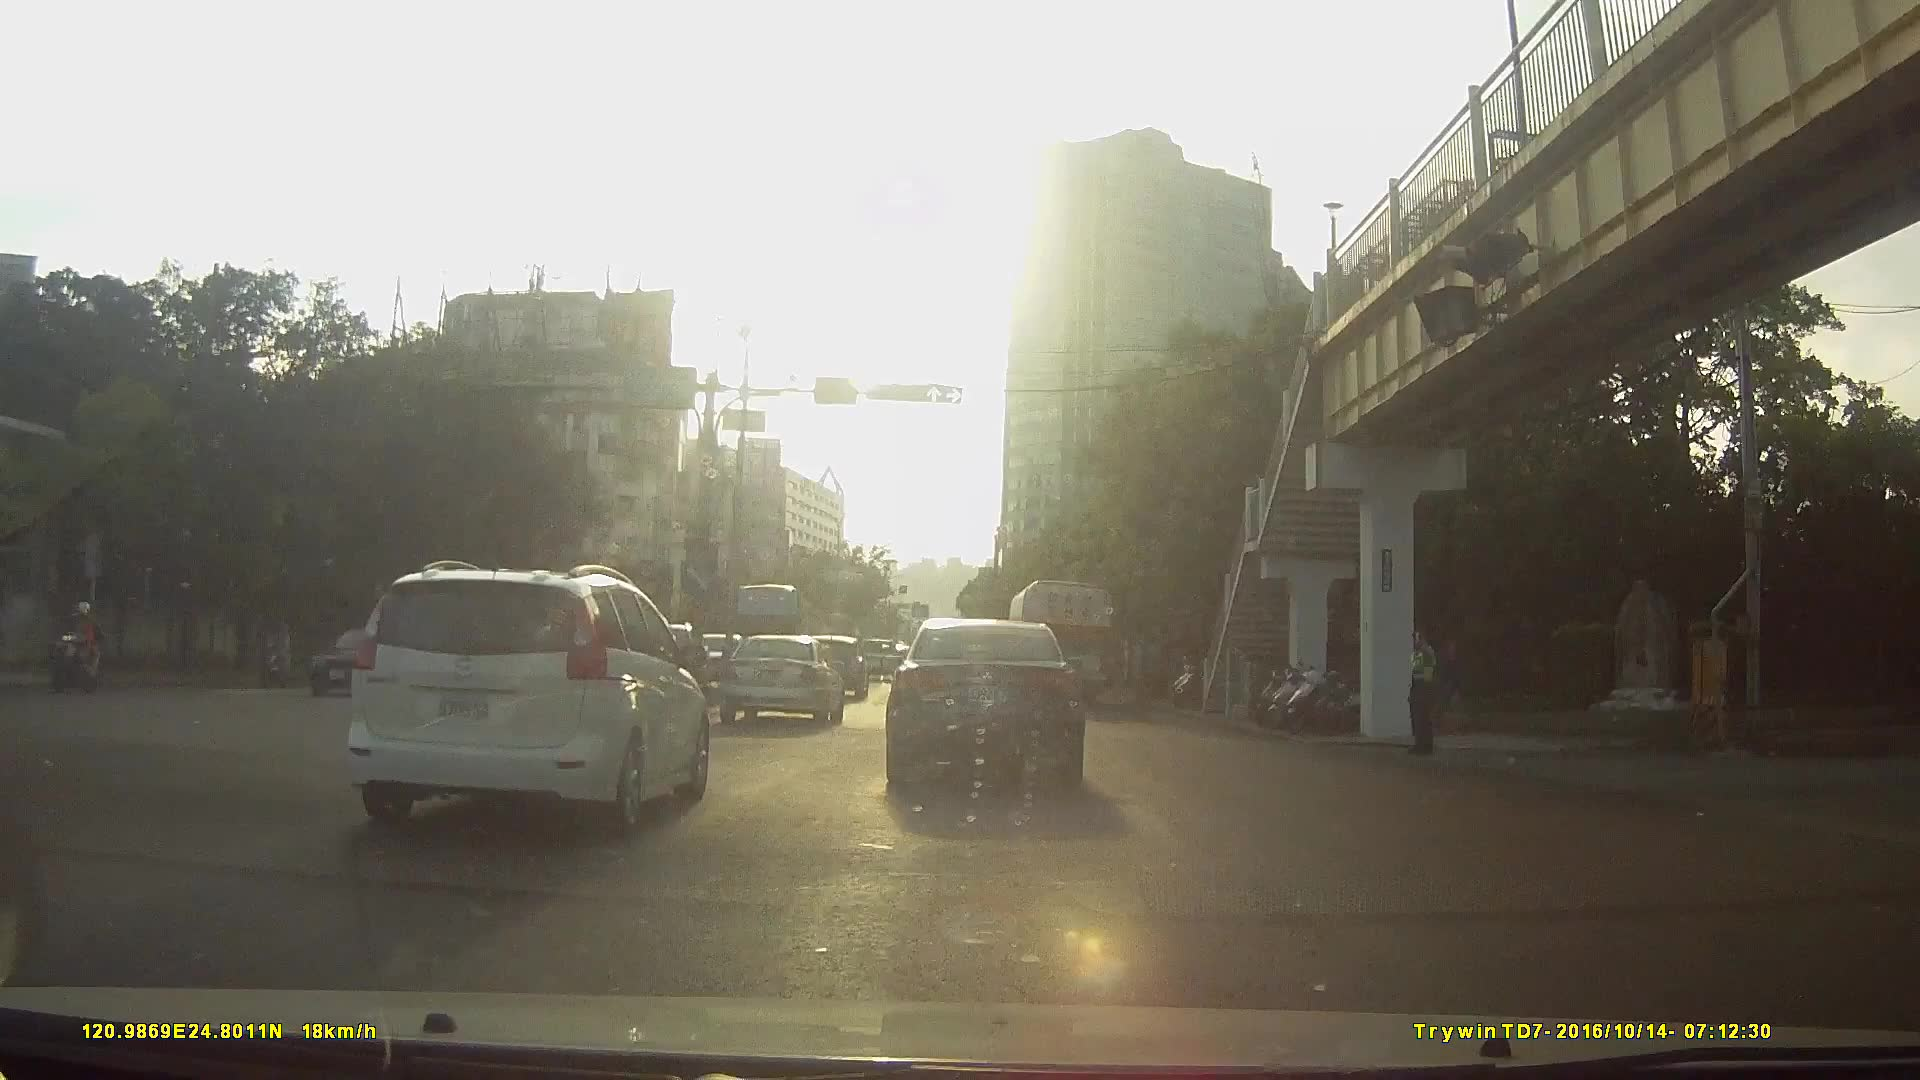pedestrian: (1403, 629, 1441, 760)
rider: (50, 598, 111, 693)
vehicle: (344, 556, 707, 834), (882, 611, 1082, 789), (1004, 580, 1110, 707), (710, 634, 843, 729), (299, 623, 433, 697), (724, 580, 807, 667), (797, 631, 868, 700), (850, 634, 899, 683)
